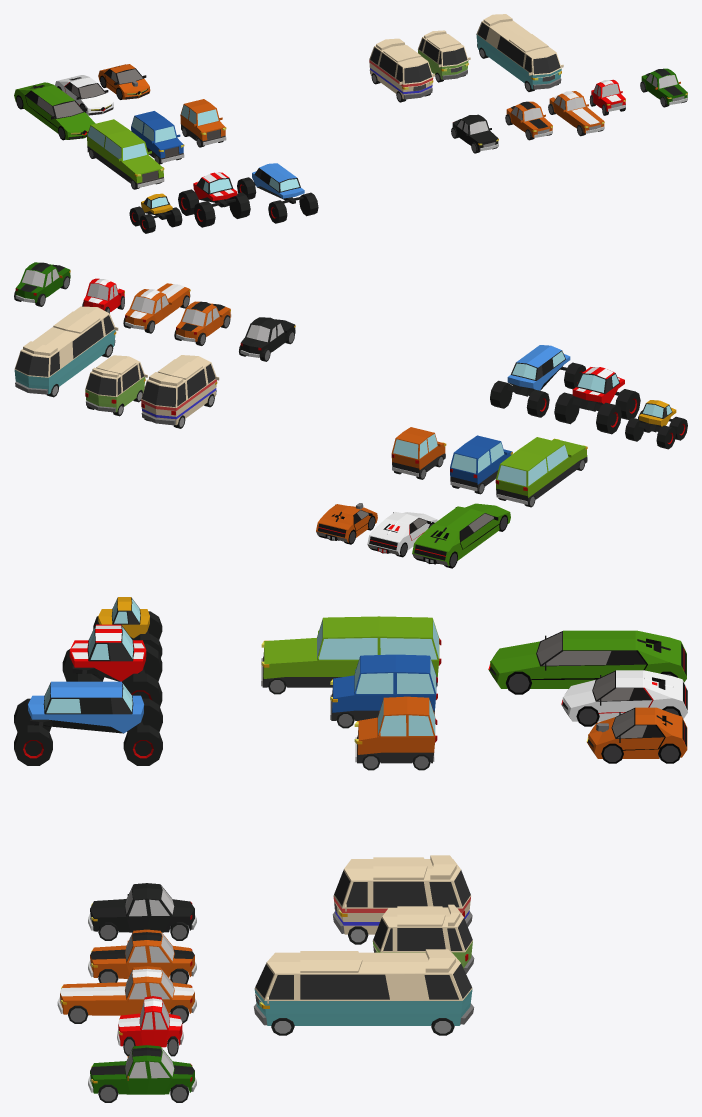
Rendered from car3.fbx.
3 renders of one model, top to bottom at view 1: azimuth 30°, elevation 25°; view 2: azimuth 150°, elevation 25°; view 3: azimuth 270°, elevation 25°, orthographic. The views are drawn at different scales.
Visible parts, largest first — view 1: Cube.122, Cube.138, Cube.114, Cube.146, Cube.118, Cube.134, Cube.130, Cube.142, Cube.112, Cube.103, Cube.144, Cube.113 (+9 smaller); view 2: Cube.122, Cube.138, Cube.114, Cube.146, Cube.118, Cube.134, Cube.112, Cube.130, Cube.142, Cube.103, Cube.113, Cube.144 (+9 smaller); view 3: Cube.122, Cube.146, Cube.138, Cube.114, Cube.112, Cube.134, Cube.142, Cube.130, Cube.118, Cube.103, Cube.144, Cube.126 (+8 smaller).
Boxes of the visible parts, bbox=[...] form: Cube.122: bbox=[476, 14, 561, 89]; Cube.138: bbox=[87, 119, 164, 188]; Cube.114: bbox=[369, 38, 433, 99]; Cube.146: bbox=[14, 82, 95, 139]; Cube.118: bbox=[418, 30, 468, 79]; Cube.134: bbox=[131, 111, 184, 163]; Cube.130: bbox=[180, 99, 226, 145]; Cube.142: bbox=[55, 75, 113, 115]; Cube.112: bbox=[252, 163, 304, 203]; Cube.103: bbox=[549, 91, 604, 133]; Cube.144: bbox=[98, 64, 150, 99]; Cube.113: bbox=[193, 172, 237, 207]; Cube.122: bbox=[14, 306, 115, 394]; Cube.138: bbox=[495, 437, 587, 504]; Cube.114: bbox=[141, 355, 216, 425]; Cube.146: bbox=[412, 503, 510, 566]; Cube.118: bbox=[85, 355, 145, 412]; Cube.134: bbox=[450, 435, 512, 491]; Cube.112: bbox=[507, 345, 570, 396]; Cube.130: bbox=[391, 427, 445, 476]; Cube.142: bbox=[367, 512, 437, 555]; Cube.103: bbox=[125, 283, 190, 329]; Cube.113: bbox=[572, 367, 624, 411]; Cube.144: bbox=[316, 503, 377, 542]; Cube.122: bbox=[254, 949, 474, 1025]; Cube.146: bbox=[488, 630, 686, 688]; Cube.138: bbox=[261, 616, 439, 687]; Cube.114: bbox=[332, 855, 472, 934]; Cube.112: bbox=[28, 681, 144, 733]; Cube.134: bbox=[330, 654, 436, 720]; Cube.142: bbox=[561, 670, 687, 721]; Cube.130: bbox=[355, 696, 435, 763]; Cube.118: bbox=[372, 904, 474, 973]; Cube.103: bbox=[57, 966, 196, 1015]; Cube.144: bbox=[586, 707, 687, 758]; Cube.126: bbox=[88, 1045, 196, 1094].
Size of the model in its own units: 5644 by 399 by 3462.
1 material, 1 textured.
